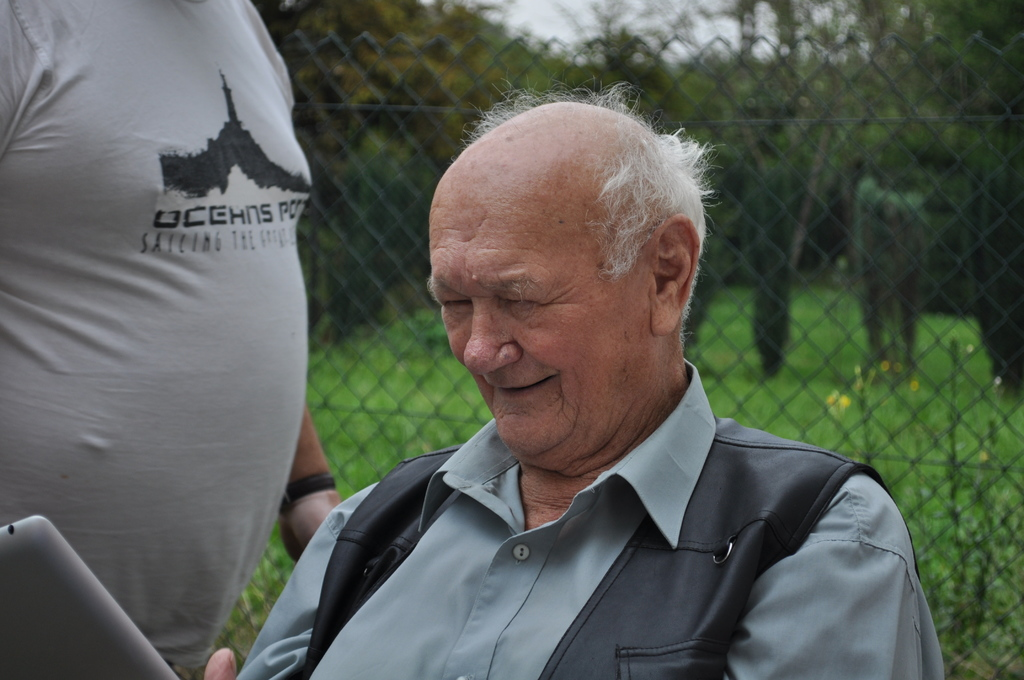Tree: (727, 0, 1023, 393)
